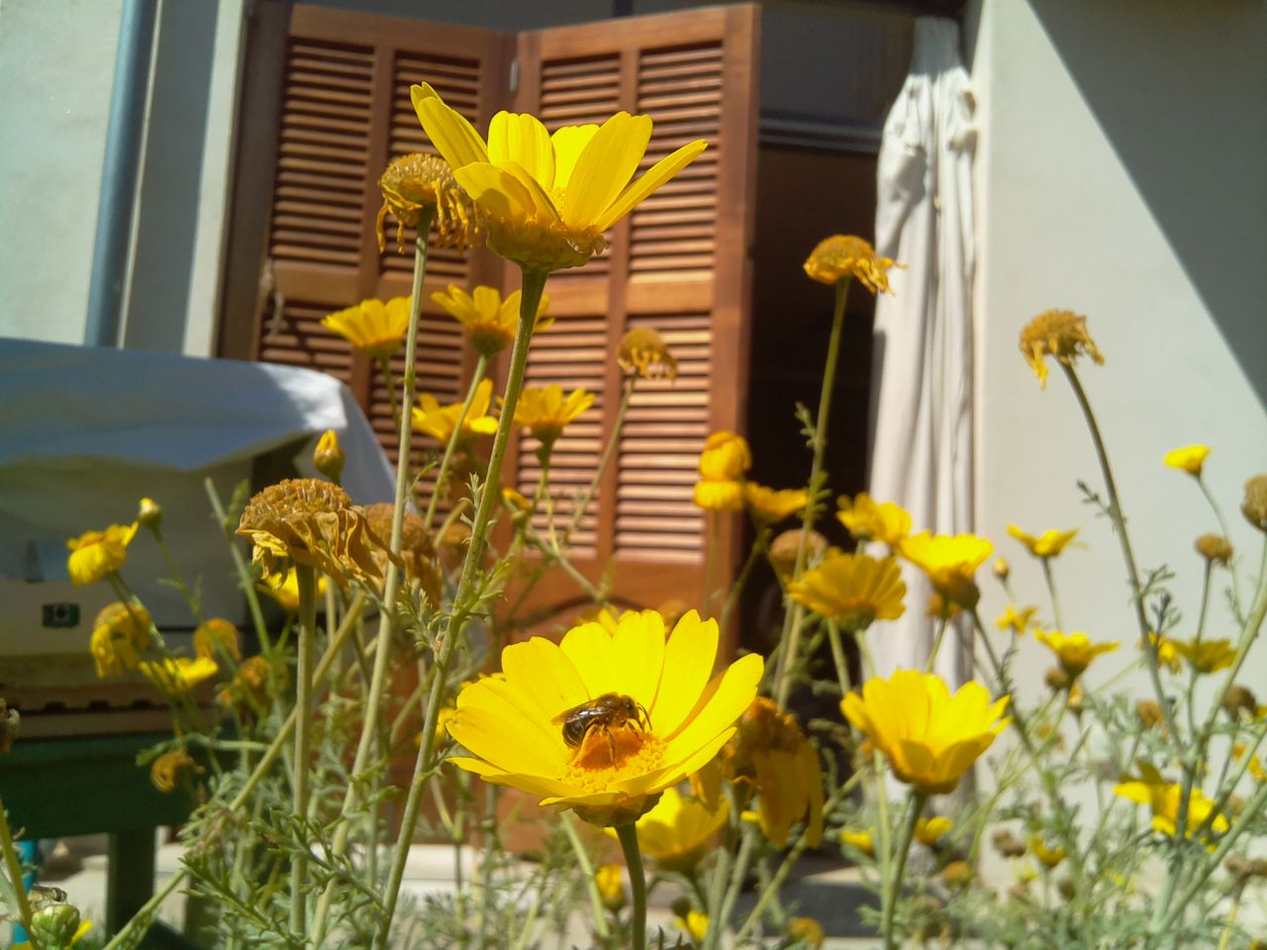Eucera: (536, 674, 661, 755)
